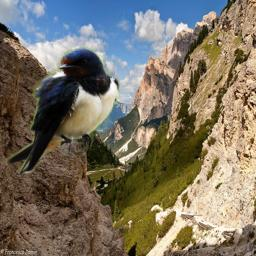Swallow: (5, 47, 120, 177)
